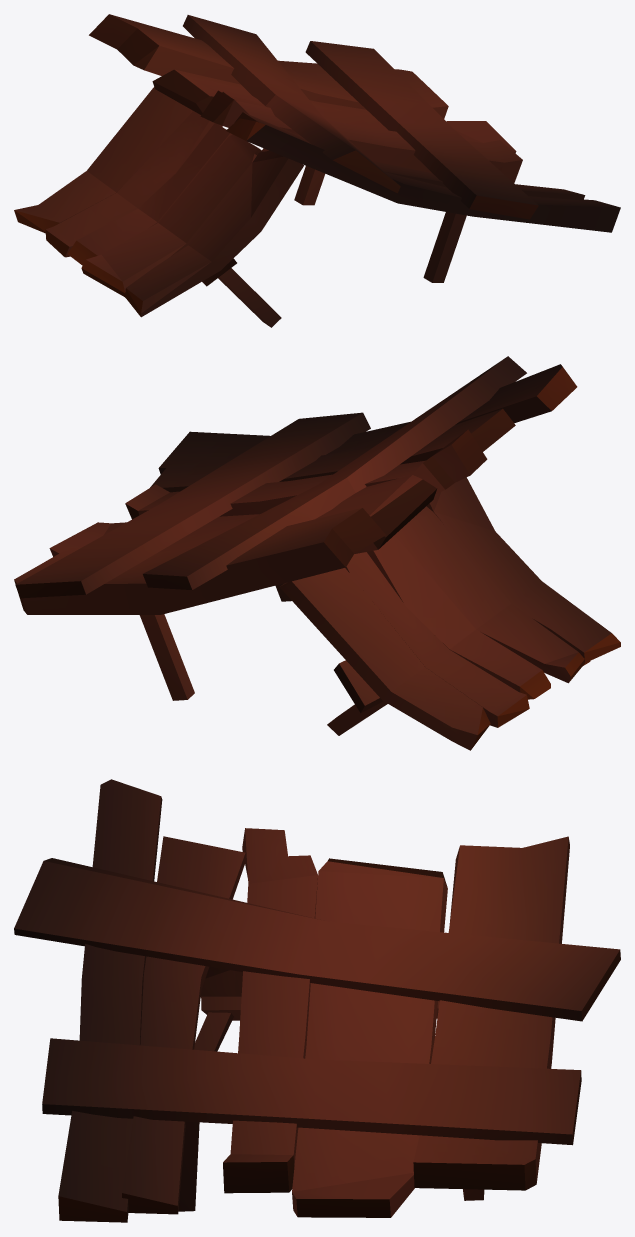
The model's file is Terrain_Decoration_2.fbx.
3 renders of one model, top to bottom at view 1: azimuth 30°, elevation 25°; view 2: azimuth 150°, elevation 25°; view 3: azimuth 270°, elevation 25°, orthographic. The views are drawn at different scales.
Visible parts, largest first — view 1: terrain_building_229_LOD0; view 2: terrain_building_229_LOD0; view 3: terrain_building_229_LOD0.
Part boxes in pixels (<box>): terrain_building_229_LOD0: <box>14,14,620,327</box>; terrain_building_229_LOD0: <box>14,356,620,750</box>; terrain_building_229_LOD0: <box>14,779,620,1222</box>.
Size of the model in its own units: 885 by 451 by 827.
Materials: 1 (1 with a texture image).
